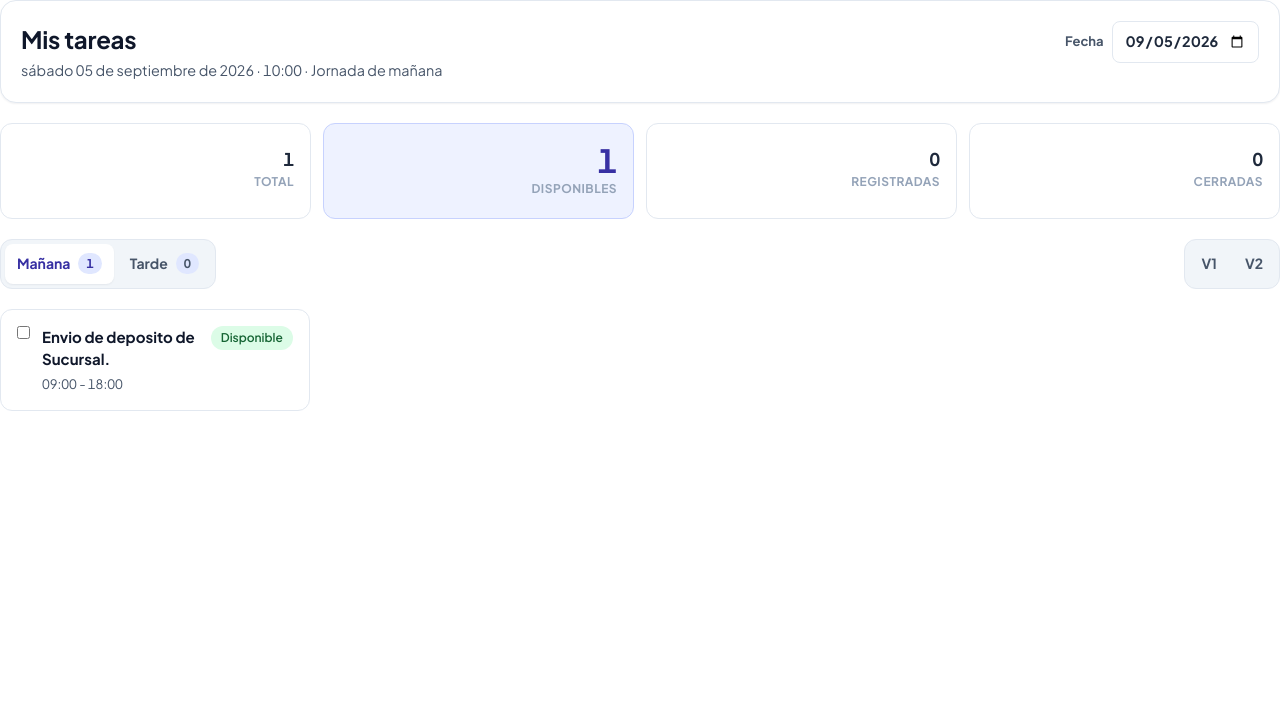
Test: MisTareasPage deposit demonstrations › keeps simple task selection and generic registration available
This screenshot has width=1280, height=720.
Click the checkbox named "Seleccionar Envio de deposito".
click(24, 332)  # box 17,326 -> 30,339
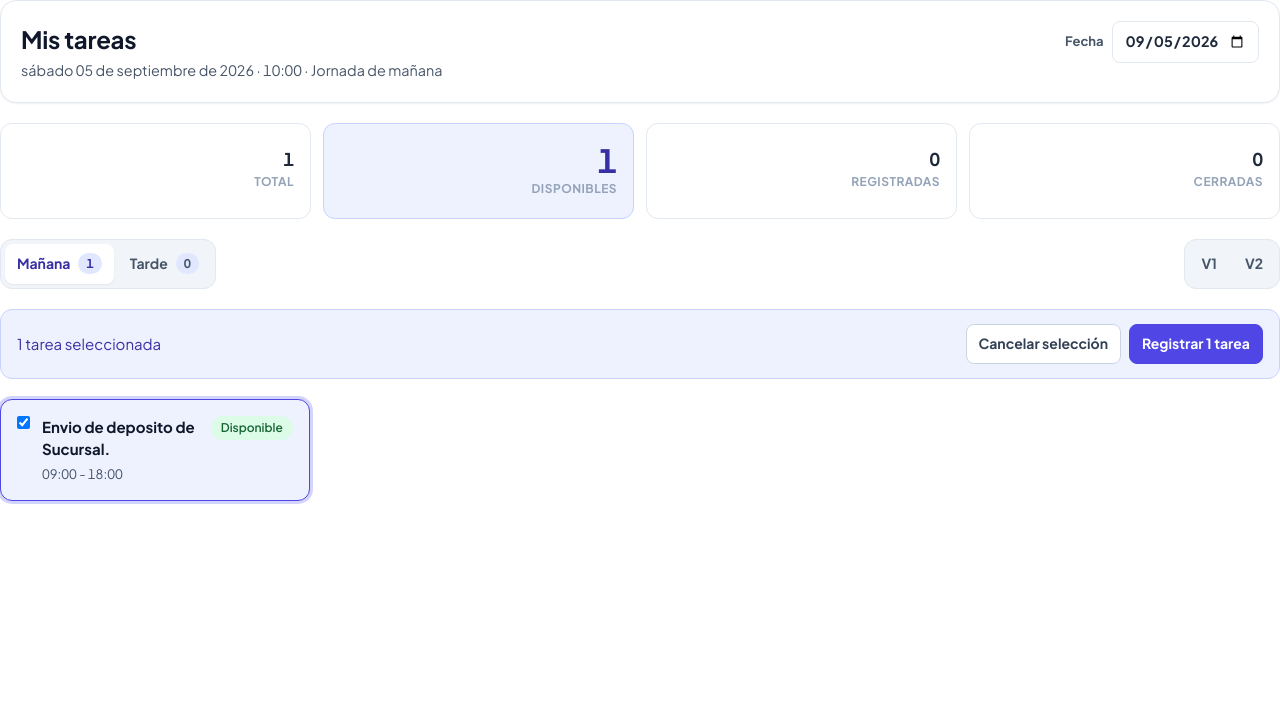
Result: the checkbox named "Seleccionar Envio de deposito" is checked at 17,416 -> 30,429
Result: the button "Registrar 1 tarea" is shown at 1129,324 -> 1263,364
